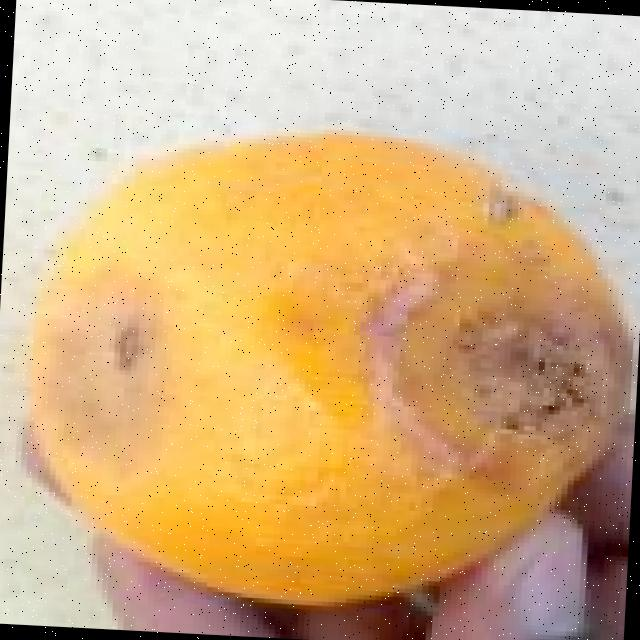Bad_Orange-0-1 day: (30, 132, 635, 612)
